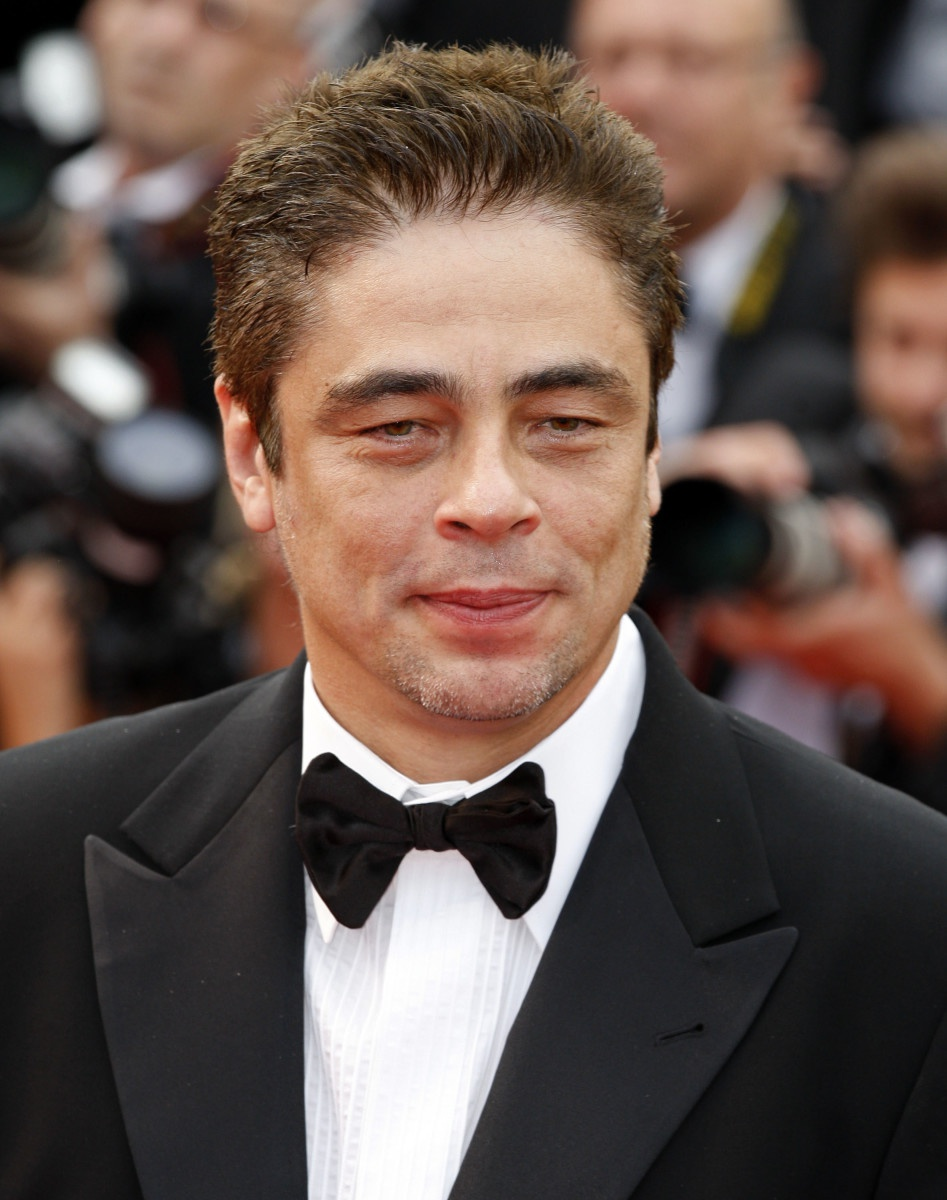bad: (290, 333, 675, 718)
